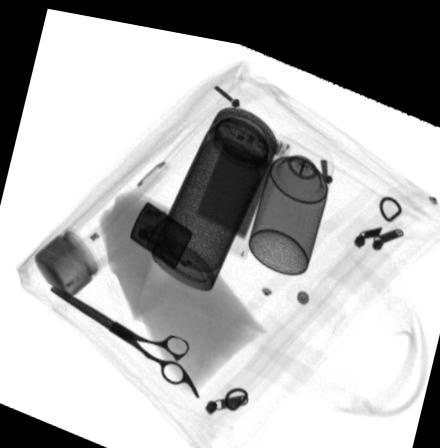Lighter: (127, 191, 191, 262)
Powerbank: (181, 103, 288, 250)
Scissors: (47, 280, 200, 391)
Sprayer: (247, 117, 335, 263)
